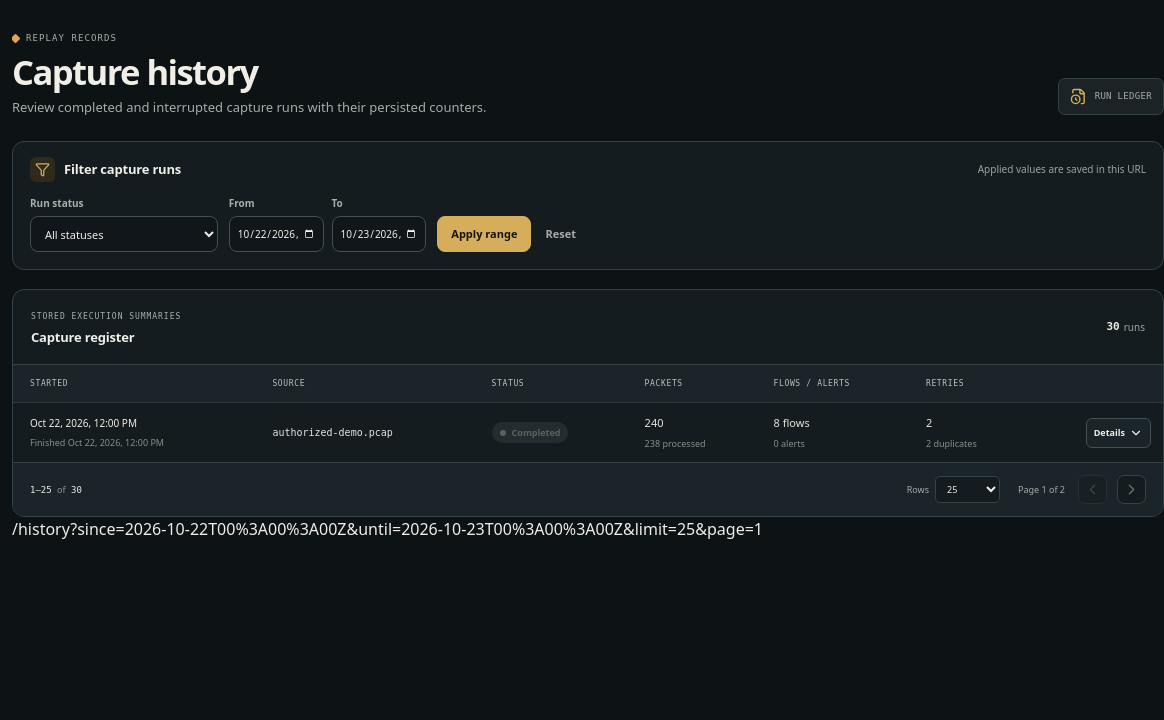
Scenario: overview and capture history dashboard › keeps pagination state in the URL and translates it to the API offset
The width and height of the screenshot is (1164, 720).
Click the button named "Next page".
click(1132, 490)  # box [1117, 475, 1146, 504]
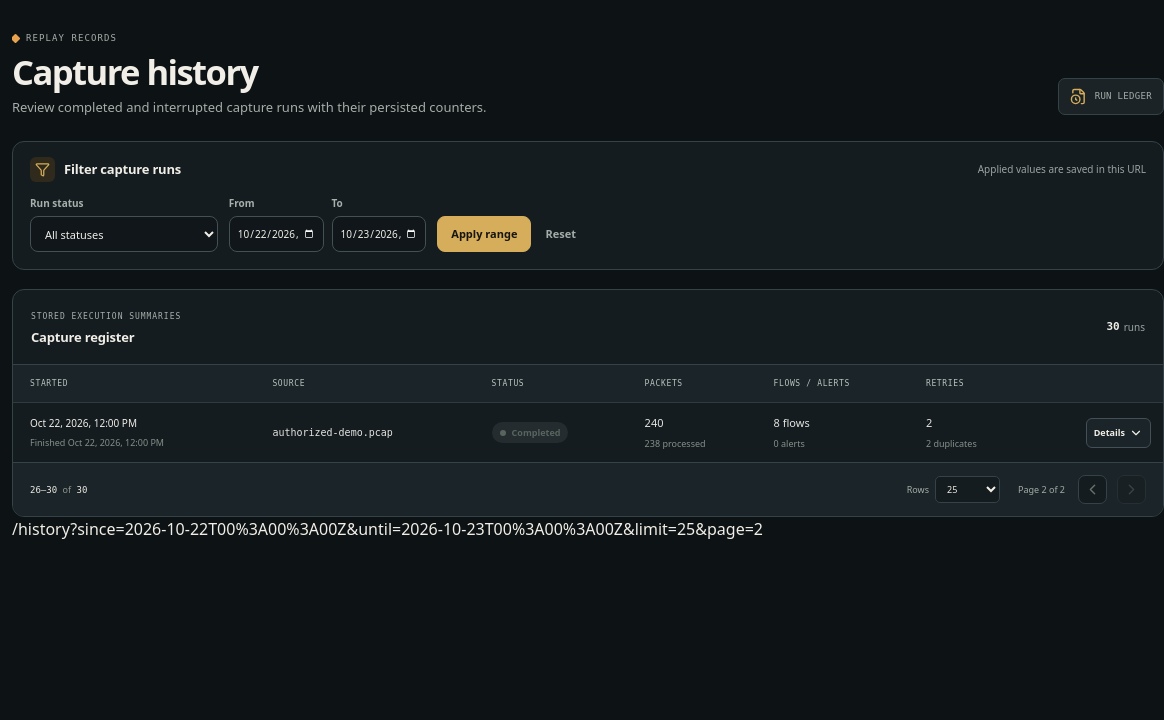
Expected: the text named "Current URL" shows "page=2", [70, 518, 763, 540]
